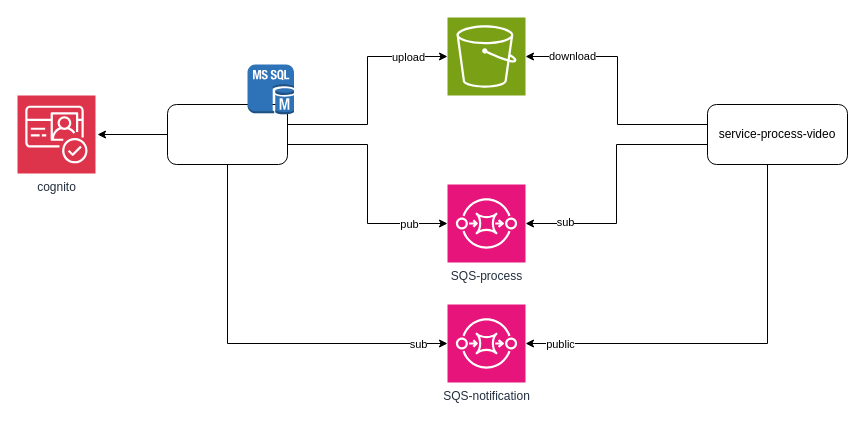
Some shapes in this 865 by 421 pixel diagram are drawn without their labels. Each missing label, with the centre of its shape:
"bucket-s3" belongs at point (486, 56).
"service-input-output" belongs at point (227, 134).
